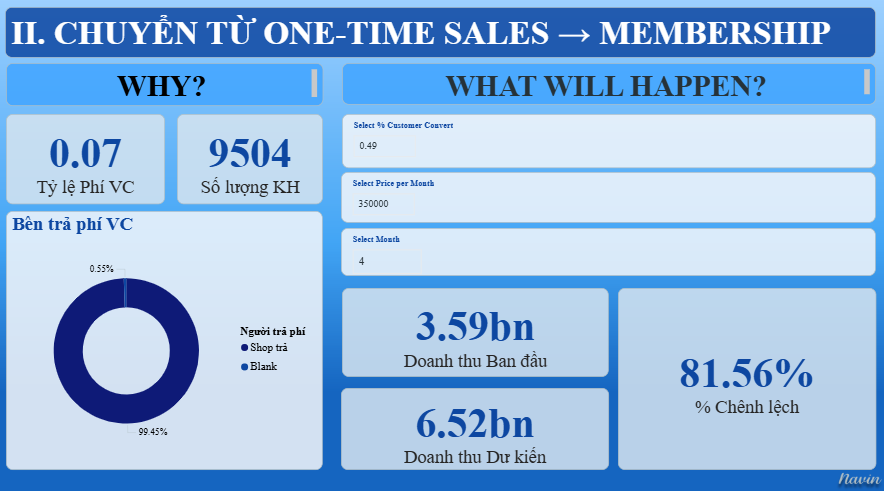

The dashboard page shown, as its layout file describes it:
{"tool":"powerbi","page":{"name":"II. MỤC TIÊU NGẮN HẠN","canvas":[1280,720],"ordinal":1},"visuals":[{"type":"textbox","box":[9.4,18.9,1256.7,73.7],"z":0},{"type":"card","fields":{"Values":["Van_don_cleaned (2).Phí VC_Ratio"]},"box":[11.3,191.1,210.5,118.2],"z":1000},{"type":"donutChart","title":"Bên trả phí VC","fields":{"Category":["Van_don_cleaned (2).Người trả phí"],"Y":["CountNonNull(Van_don_cleaned (2).Người trả phí)"]},"box":[11.3,328.4,456.6,372.4],"z":2000},{"type":"card","fields":{"Values":["Count(Sales_cleaned.SĐT)"]},"box":[255.8,191.1,210.5,118.2],"z":3000},{"type":"textbox","box":[11.3,111.7,456.6,61.5],"z":4000},{"type":"textbox","box":[495.5,111.7,770.8,61.5],"z":5000},{"type":"slicer","fields":{"Values":["Pct_Convert.Pct_Convert"]},"box":[495.5,173.3,770.8,85.8],"z":6000},{"type":"slicer","fields":{"Values":["Months_Selected.Months_Selected"]},"box":[495.5,359.5,770.8,92.3],"z":7000},{"type":"slicer","fields":{"Values":["Price_per_Month.Price_per_Month"]},"box":[495.5,259.1,770.8,89.1],"z":8000},{"type":"card","fields":{"Values":["Sales_cleaned.Baseline_Revenue"]},"box":[495.5,468,370.8,118.2],"z":9000},{"type":"card","fields":{"Values":["Sales_cleaned.Gap Baseline Revenue & Membership Revenue (%)"]},"box":[893.8,468,372.4,246.1],"z":10000},{"type":"card","fields":{"Values":["Sales_cleaned.Membership Revenue"]},"box":[495.5,595.9,370.8,118.2],"z":11000}]}

Visuals, with their boxes in screenshot pixels (x1, y1, x2, y2), scaled from the page's 1280x720 canvas onto the 884x491 screenshot:
textbox: 6:13:874:63
card - Van_don_cleaned (2).Phí VC_Ratio: 8:130:153:211
"Bên trả phí VC" donutChart: 8:224:323:478
card - Count(Sales_cleaned.SĐT): 177:130:322:211
textbox: 8:76:323:118
textbox: 342:76:875:118
slicer - Pct_Convert.Pct_Convert: 342:118:875:177
slicer - Months_Selected.Months_Selected: 342:245:875:308
slicer - Price_per_Month.Price_per_Month: 342:177:875:237
card - Sales_cleaned.Baseline_Revenue: 342:319:598:400
card - Sales_cleaned.Gap Baseline Revenue & Membership Revenue (%): 617:319:874:487
card - Sales_cleaned.Membership Revenue: 342:406:598:487
